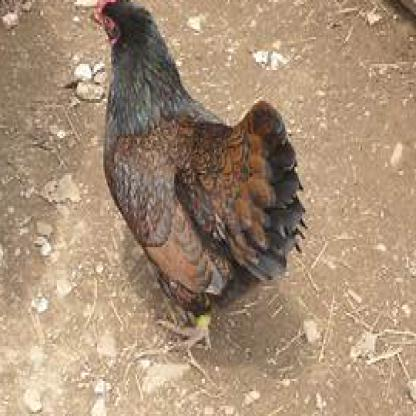chicken: (92, 0, 312, 357)
